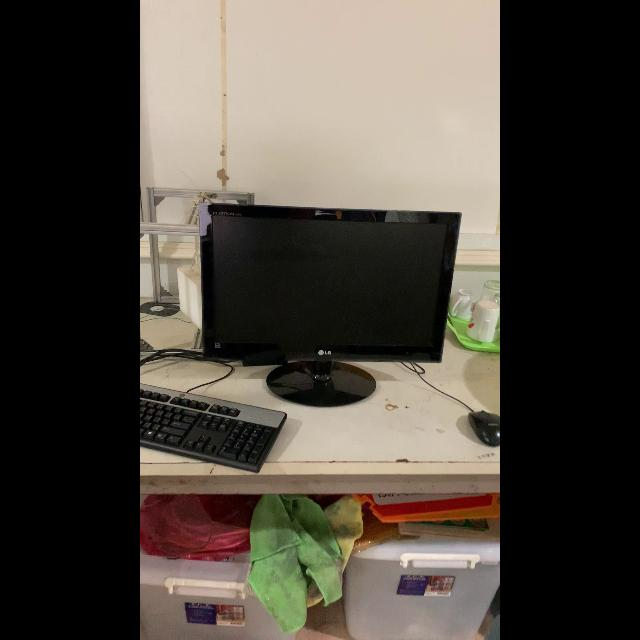Flat-Panel-Monitor: (198, 196, 460, 412)
